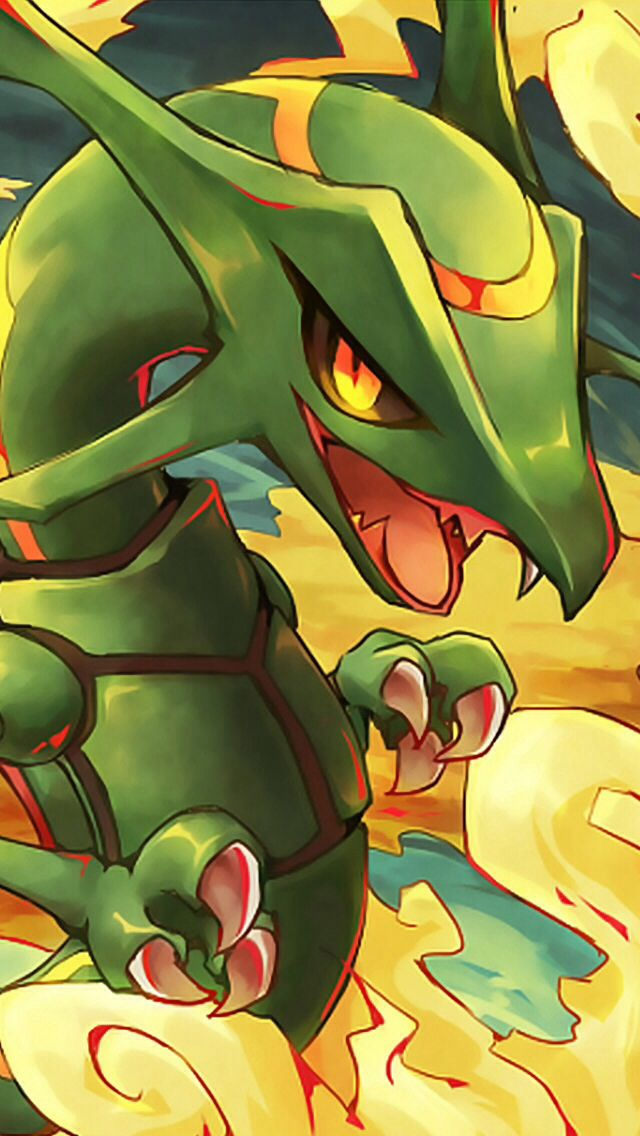rayquaza: (1, 1, 640, 1136)
